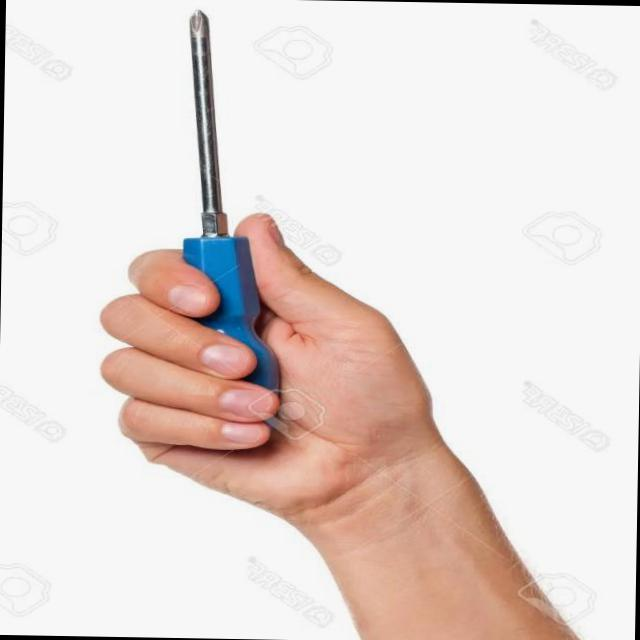screwdriver: (182, 10, 279, 390)
